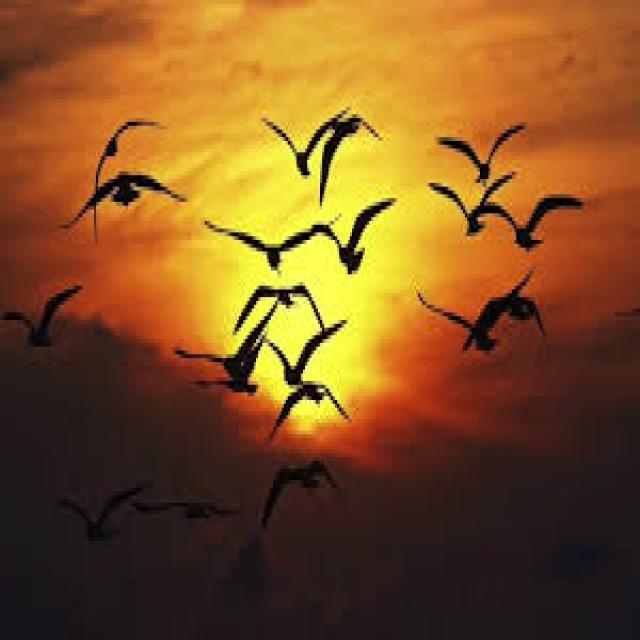bird: (56, 160, 194, 244), (0, 268, 100, 382), (230, 314, 346, 410), (55, 456, 158, 554), (256, 84, 361, 179), (259, 464, 362, 548), (428, 282, 518, 377), (170, 318, 278, 391), (225, 270, 330, 343), (421, 116, 528, 185), (198, 215, 328, 265), (494, 192, 598, 254), (316, 194, 386, 282), (162, 488, 248, 556), (88, 100, 164, 170), (427, 179, 508, 229)
